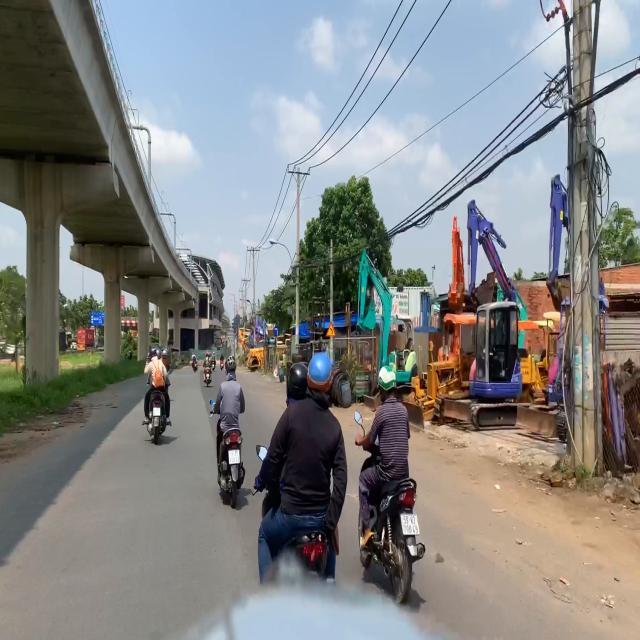Nguy hiem: (325, 320, 336, 338)
Re trai: (274, 326, 280, 336)
